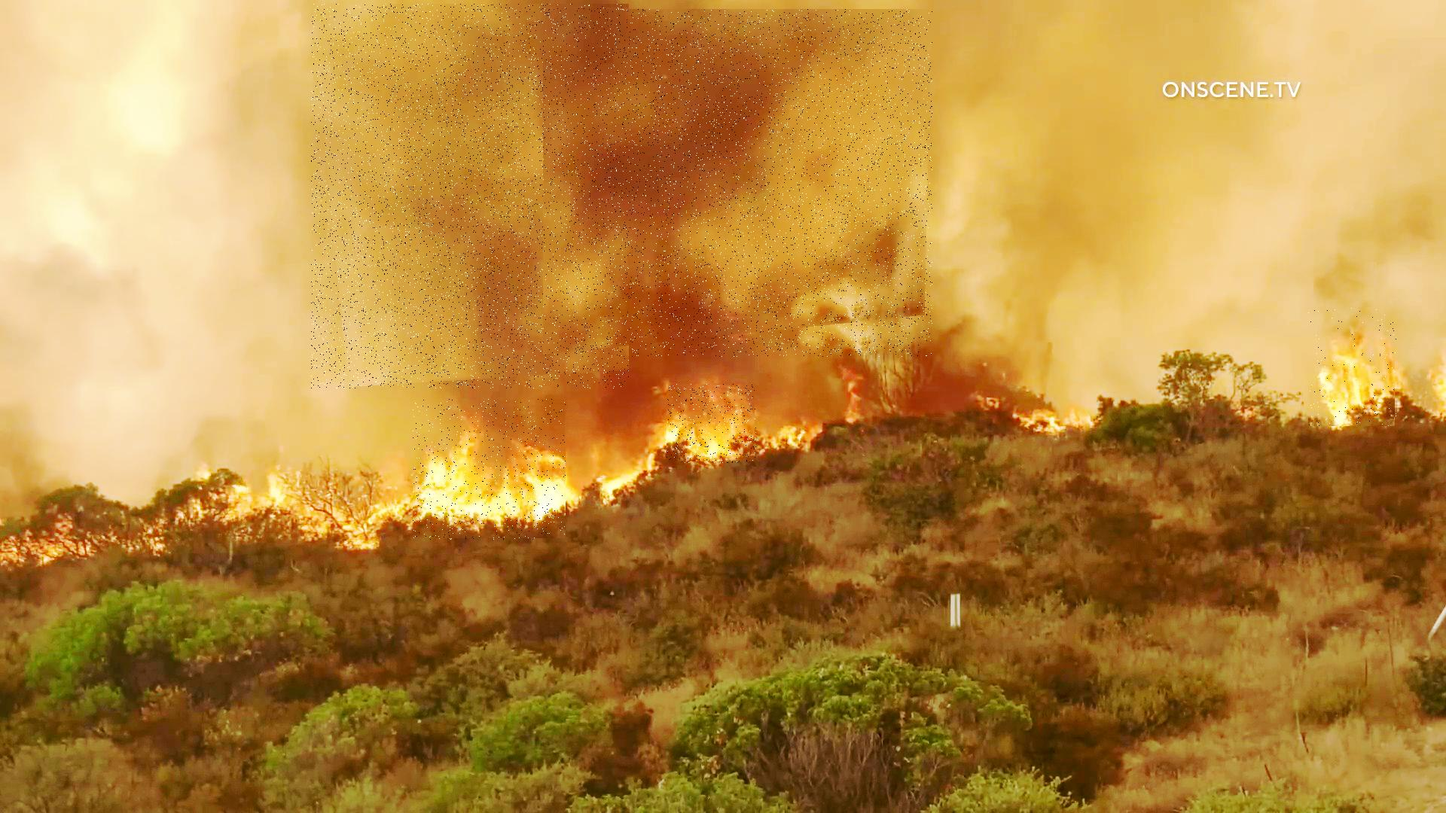fire: (413, 400, 566, 540), (1309, 307, 1397, 426), (667, 385, 757, 464)
smoke: (543, 10, 932, 357), (311, 4, 629, 389)
